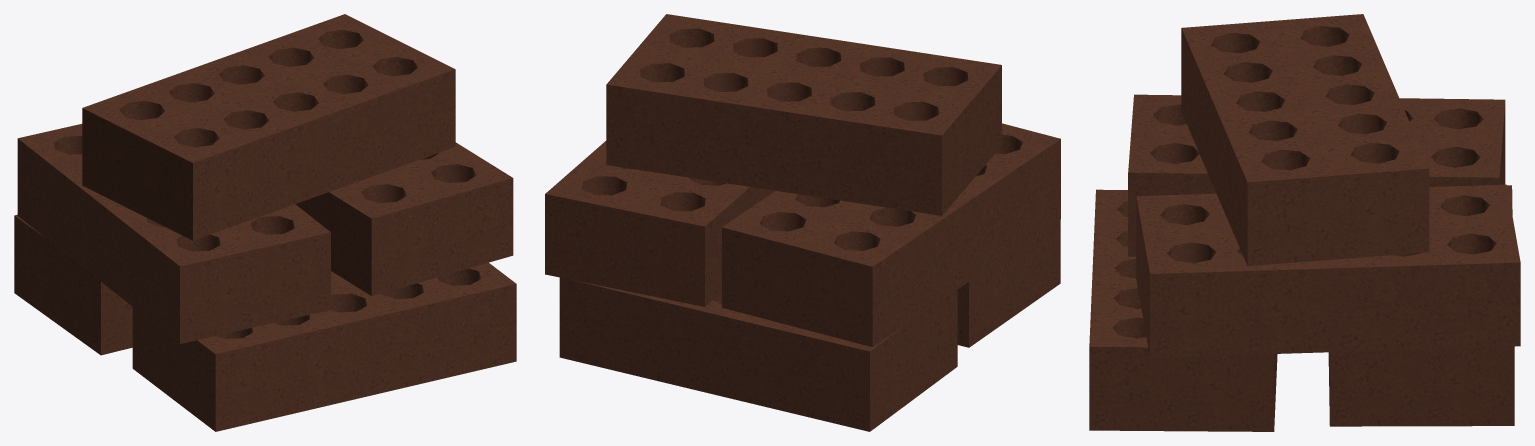
Rendered from clay.glb.
3 renders of one model, left to right at view 1: azimuth 30°, elevation 25°; view 2: azimuth 150°, elevation 25°; view 3: azimuth 270°, elevation 25°, orthographic. The views are drawn at different scales.
Visible parts, largest first — view 1: Object_2; view 2: Object_2; view 3: Object_2.
Boxes of the visible parts, <box> form: Object_2: <box>14,14,516,431</box>; Object_2: <box>545,14,1060,431</box>; Object_2: <box>1089,14,1520,431</box>.
Bounding box in the file's own units: 9.19 × 6.08 × 9.33.
1 material, 1 textured.
